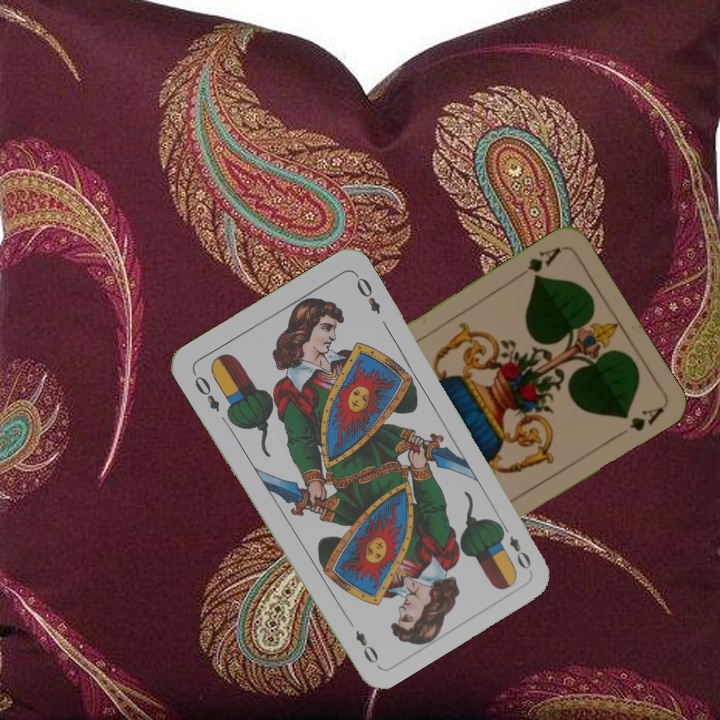EO: (495, 519, 534, 572), (188, 368, 223, 415)
GA: (511, 242, 564, 283)
